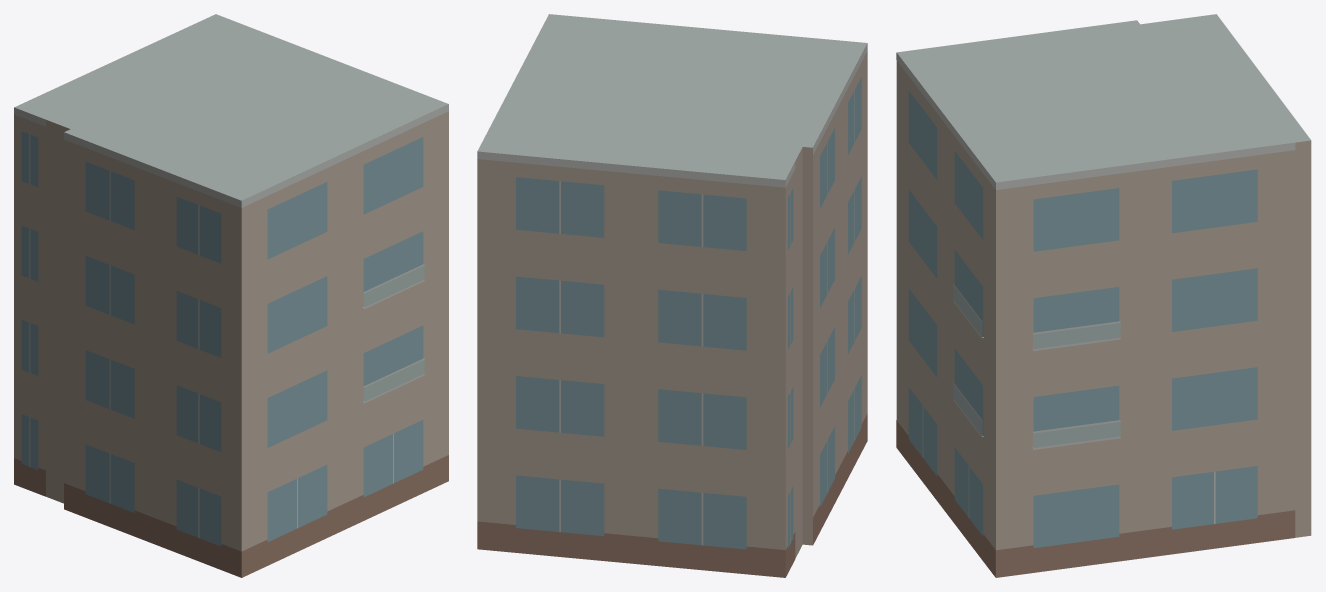
The model's file is survey-upis-32703335.glb.
3 views of the same model, side by side, from view 1: azimuth 30°, elevation 25°; view 2: azimuth 150°, elevation 25°; view 3: azimuth 270°, elevation 25° (orthographic). The views are drawn at different scales.
Parts seen in each view (by area): view 1: survey-upis-32703335.tmp; view 2: survey-upis-32703335.tmp; view 3: survey-upis-32703335.tmp.
Part boxes in pixels (box(x1,y1,x2,y2)): survey-upis-32703335.tmp: box(14, 14, 448, 577); survey-upis-32703335.tmp: box(477, 14, 867, 577); survey-upis-32703335.tmp: box(896, 14, 1311, 577).
Bounding box in the file's own units: 11.72 × 12.8 × 12.18.
